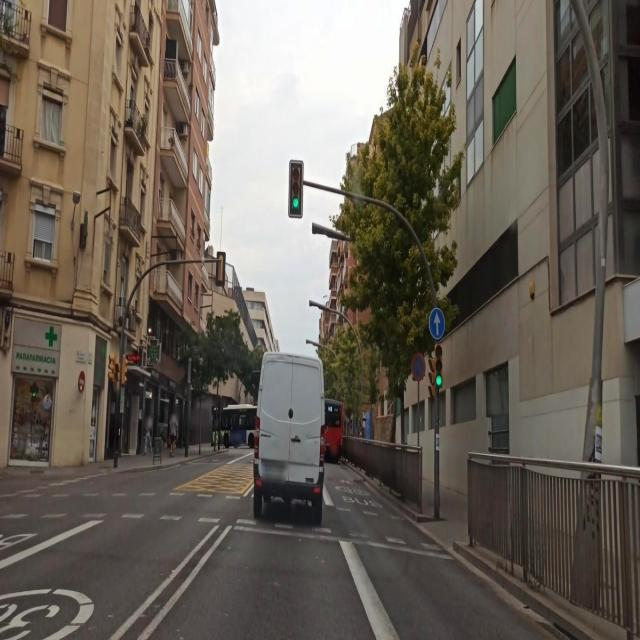car: (252, 349, 325, 524), (323, 396, 345, 463)
